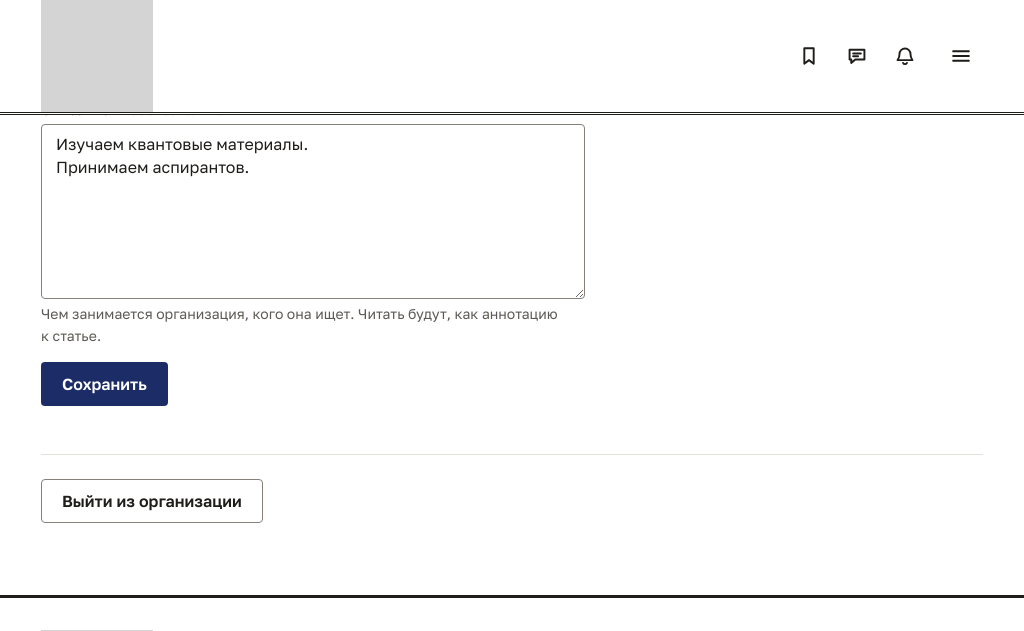
it: organization data › shows the server's objection to the owner
(page scrolled)
Click the button "Сохранить" at (104, 384), box [41,362,168,406]
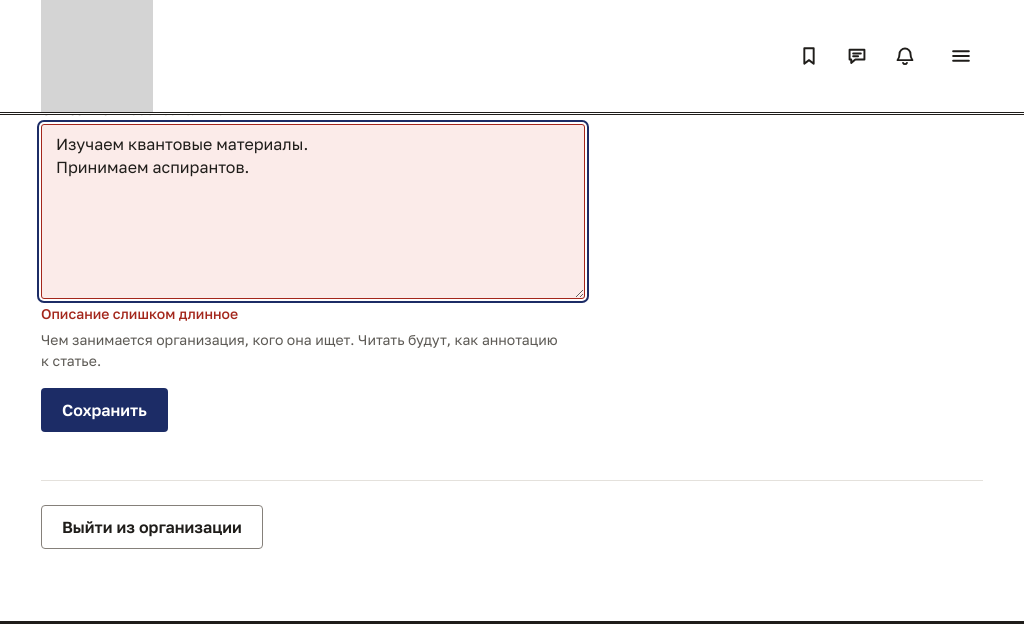
Expected: the text "Описание слишком длинное" is shown, [41,305,238,322]
